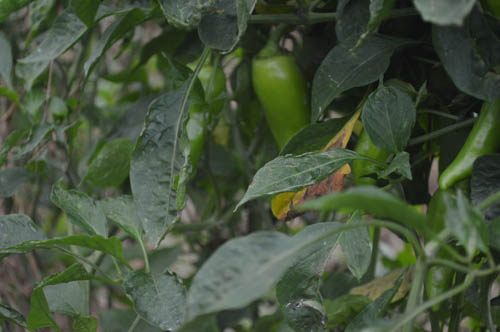ChiliPepper: (250, 57, 311, 143), (436, 104, 494, 193), (182, 67, 232, 167)
